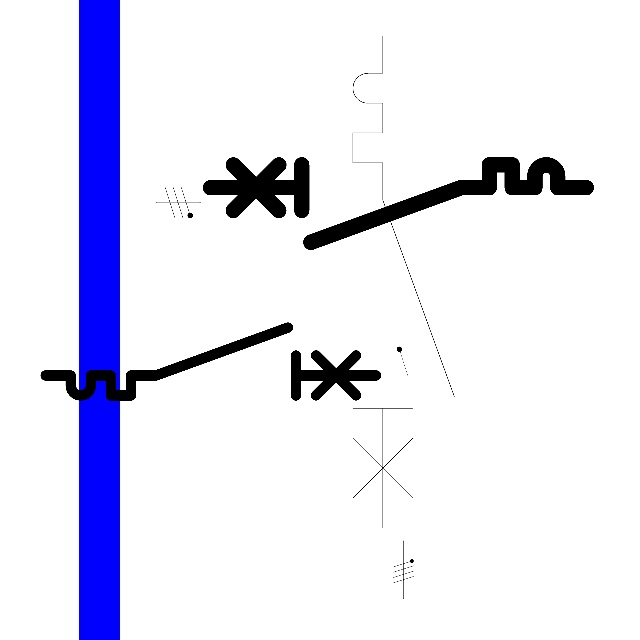interruptor_termomagnetico: (340, 23, 466, 540), (200, 155, 596, 252), (37, 319, 384, 404)
